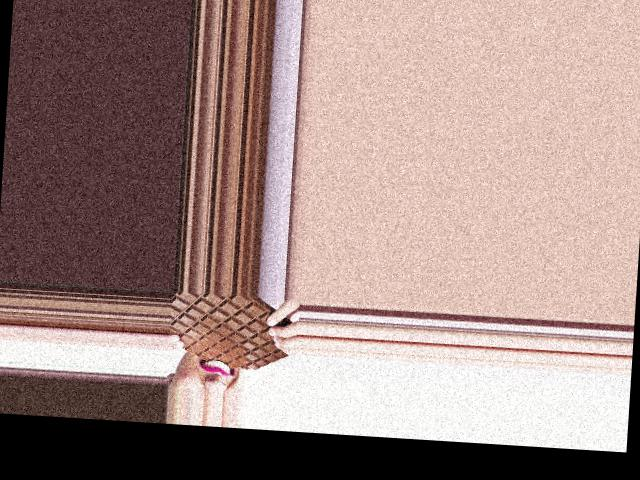chocolate: (168, 291, 301, 375)
